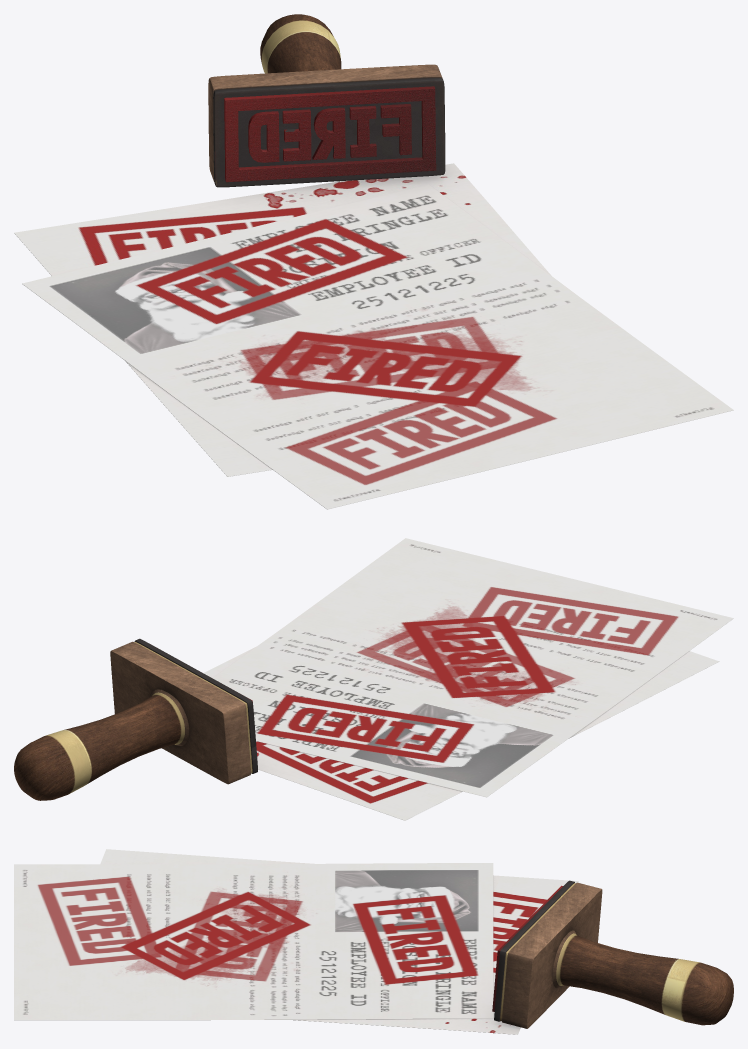
The model's file is FiredPaper.glb.
3 renders of one model, top to bottom at view 1: azimuth 30°, elevation 25°; view 2: azimuth 150°, elevation 25°; view 3: azimuth 270°, elevation 25°, orthographic. The views are drawn at different scales.
Parts seen in each view (by area): view 1: Papers, Stamp; view 2: Papers, Stamp; view 3: Papers, Stamp.
Boxes of the visible parts, bbox=[...] form: Papers: bbox=[14, 163, 733, 509]; Stamp: bbox=[208, 14, 445, 187]; Papers: bbox=[203, 538, 733, 820]; Stamp: bbox=[14, 638, 257, 800]; Papers: bbox=[14, 849, 578, 1034]; Stamp: bbox=[492, 880, 733, 1028].
Size of the model in its own units: 7.05 by 1.37 by 11.46.
Materials: 2 (2 with a texture image).
